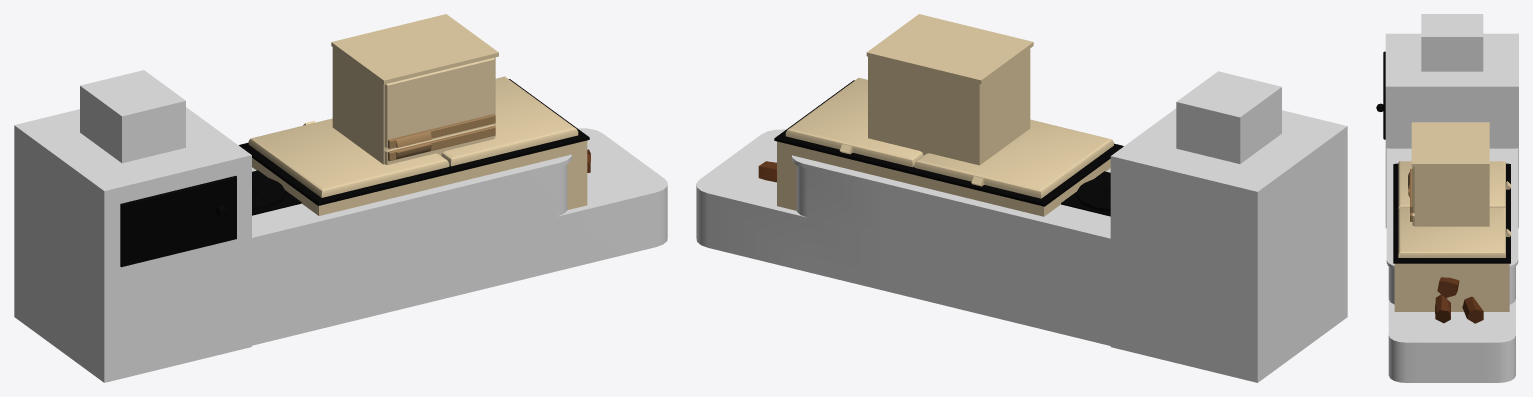
Rendered from Cozinha.fbx.
3 views of the same model, side by side, from view 1: azimuth 30°, elevation 25°; view 2: azimuth 150°, elevation 25°; view 3: azimuth 270°, elevation 25° (orthographic). The views are drawn at different scales.
Parts seen in each view (by area): view 1: WoodBurningStove, Geladeira, Freezer; view 2: WoodBurningStove, Geladeira, Freezer; view 3: WoodBurningStove, Freezer, Geladeira, Wood.
Part boxes in pixels (box(x1,y1,x2,y2)): WoodBurningStove: box(14, 70, 667, 382); Geladeira: box(331, 14, 498, 164); Freezer: box(239, 76, 589, 215); WoodBurningStove: box(696, 71, 1347, 382); Geladeira: box(866, 14, 1033, 165); Freezer: box(774, 78, 1123, 216); WoodBurningStove: box(1376, 14, 1518, 382); Freezer: box(1393, 161, 1511, 311); Geladeira: box(1408, 122, 1489, 226); Wood: box(1435, 277, 1483, 323).
Size of the model in its own units: 4.93 by 2.09 by 1.44.
